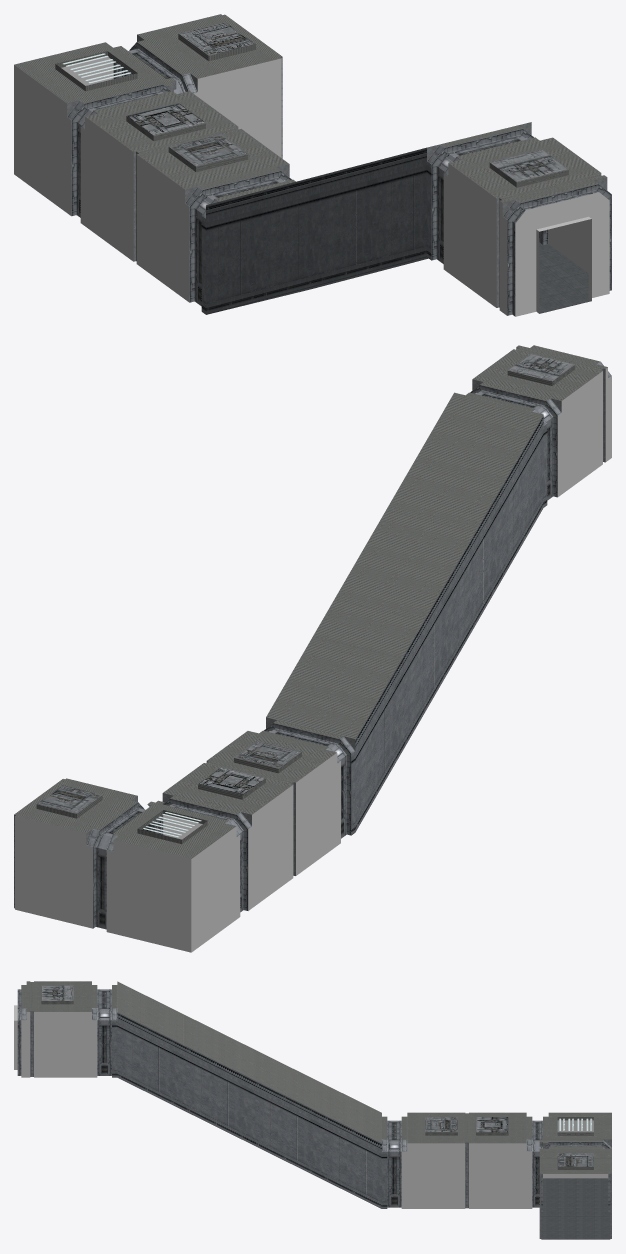
Rendered from poi_all_impl_bunker_warren_s01_r16_hall16_mesh_r16.fbx.
3 views of the same model, one above another, from view 1: azimuth 30°, elevation 25°; view 2: azimuth 150°, elevation 25°; view 3: azimuth 270°, elevation 25° (orthographic). The views are drawn at different scales.
Visible parts, largest first — view 1: mesh_node; view 2: mesh_node; view 3: mesh_node.
Part boxes in pixels (left/top/right/bottom): mesh_node: left=14, top=14, right=611, bottom=316; mesh_node: left=14, top=345, right=611, bottom=952; mesh_node: left=14, top=981, right=611, bottom=1239.
Bounding box in the file's own units: 8 × 12.2 × 33.
